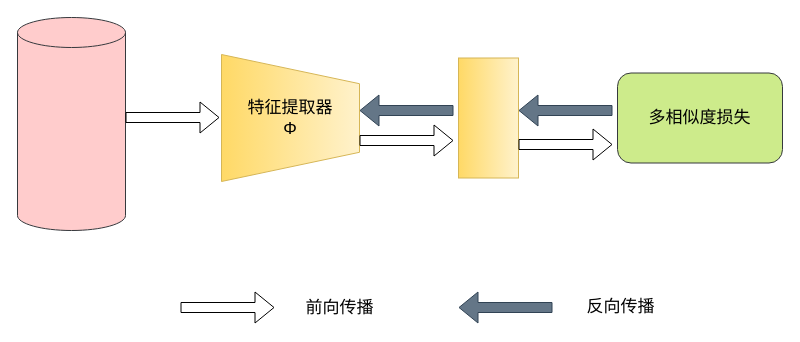
This 800x342 diagram has some shape labels left out. Here are the shapes that lost their labels. From the top down, the centre of each, then its label:
At pixel 71 123: "辅助数据集".
At pixel 488 117: "BDC φ".
